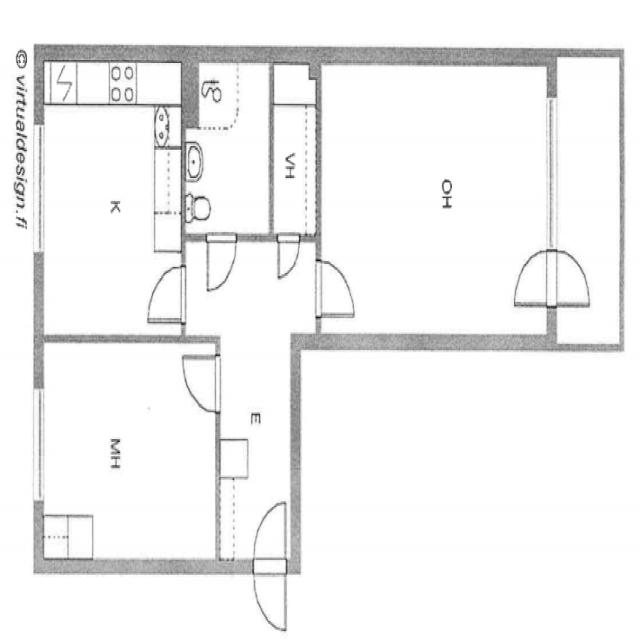door: (241, 124, 622, 284), (150, 94, 305, 203), (233, 523, 305, 607), (487, 254, 572, 299), (526, 258, 616, 300), (125, 270, 206, 316), (293, 265, 379, 308), (163, 360, 239, 404), (191, 245, 251, 285), (264, 242, 314, 274)
window: (526, 115, 579, 220), (14, 142, 57, 233), (17, 402, 58, 485)
zone: (241, 115, 633, 285), (0, 114, 232, 283), (0, 386, 284, 524), (150, 90, 306, 200), (254, 96, 337, 204), (233, 525, 307, 608), (123, 270, 206, 317)
